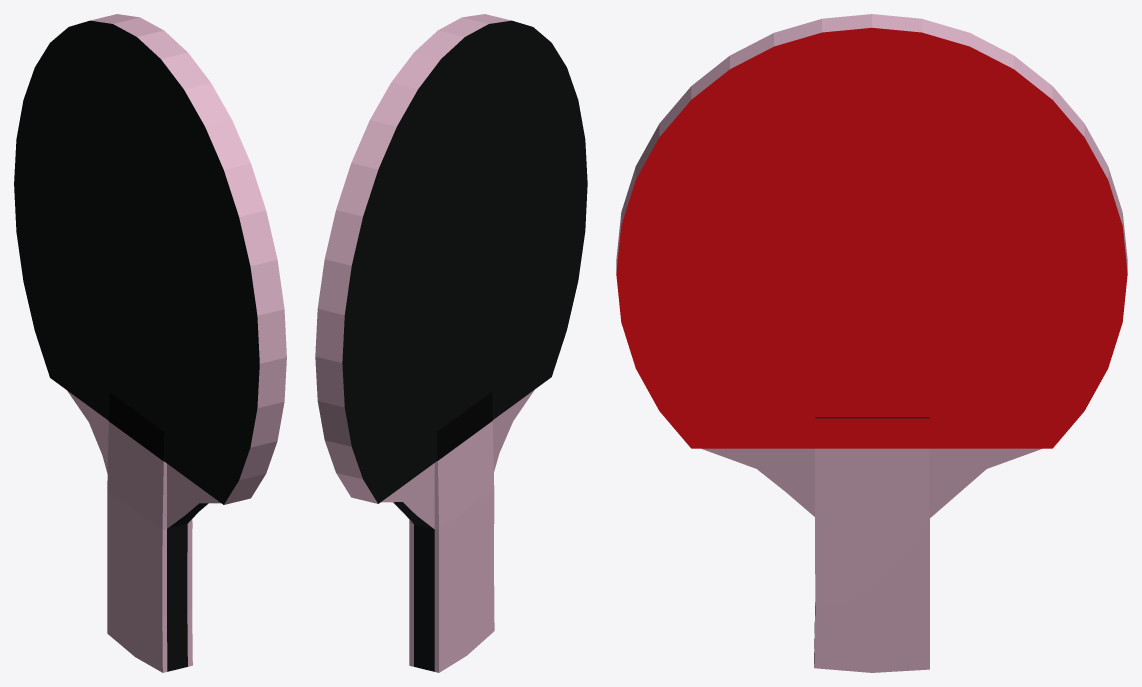
Rendered from Paddle_1.glb.
3 renders of one model, left to right at view 1: azimuth 30°, elevation 25°; view 2: azimuth 150°, elevation 25°; view 3: azimuth 270°, elevation 25°, orthographic. The views are drawn at different scales.
Parts seen in each view (by area): view 1: Circle; view 2: Circle; view 3: Circle.
Part boxes in pixels (x1=…): Circle: x1=14, y1=14, x2=286, y2=672; Circle: x1=315, y1=14, x2=587, y2=672; Circle: x1=616, y1=14, x2=1127, y2=672.
Size of the model in its own units: 0.2432 by 4.81 by 3.45.
